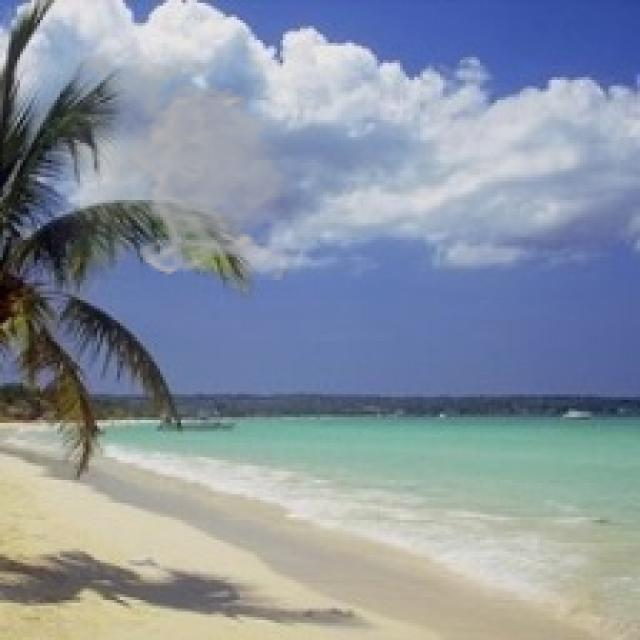Smoke: (51, 43, 298, 280)
